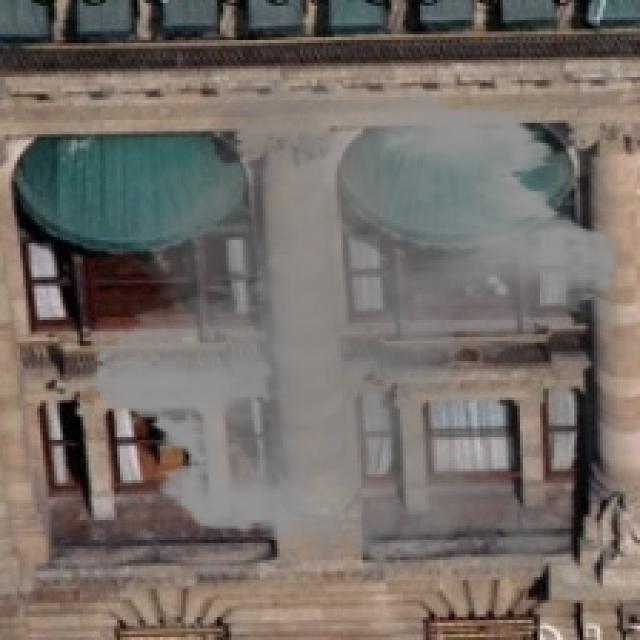smoke: (74, 57, 637, 594)
